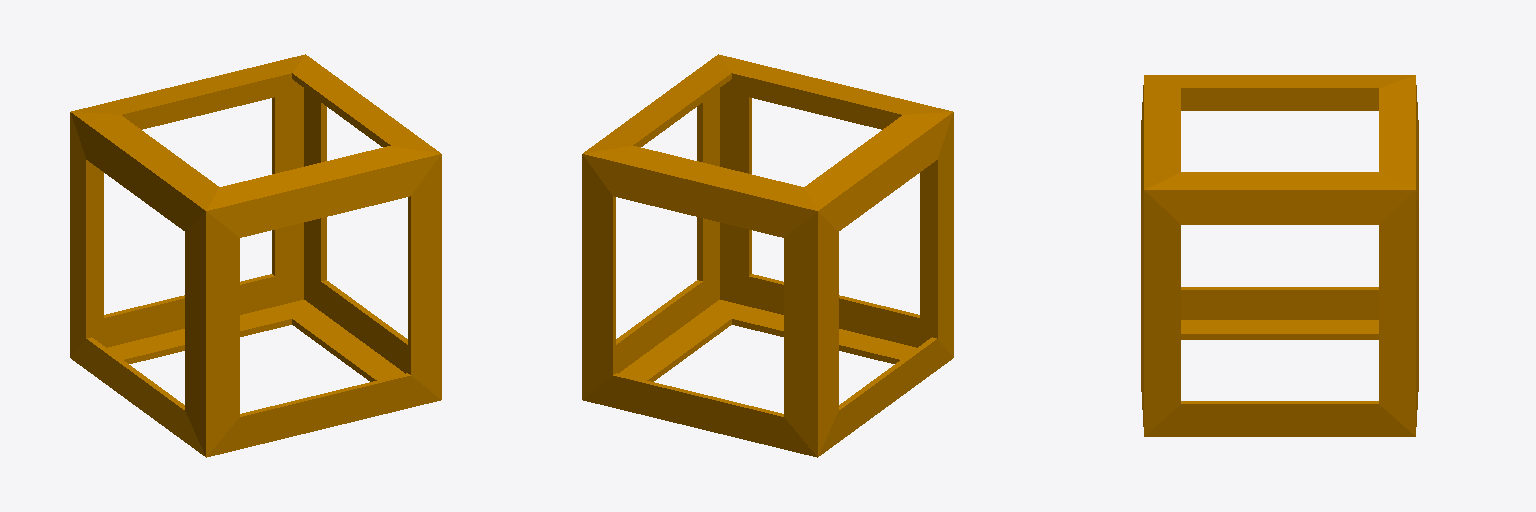
The model's file is scope_active.obj.
3 views of the same model, side by side, from view 1: azimuth 30°, elevation 25°; view 2: azimuth 150°, elevation 25°; view 3: azimuth 270°, elevation 25° (orthographic).
Parts seen in each view (by area): view 1: Cube; view 2: Cube; view 3: Cube.
Boxes of the visible parts, x1,y1,x2,y2 form: Cube: [70, 54, 441, 457]; Cube: [582, 54, 953, 457]; Cube: [1141, 75, 1418, 436].
Bounding box in the file's own units: 2.1 × 2.1 × 2.1.